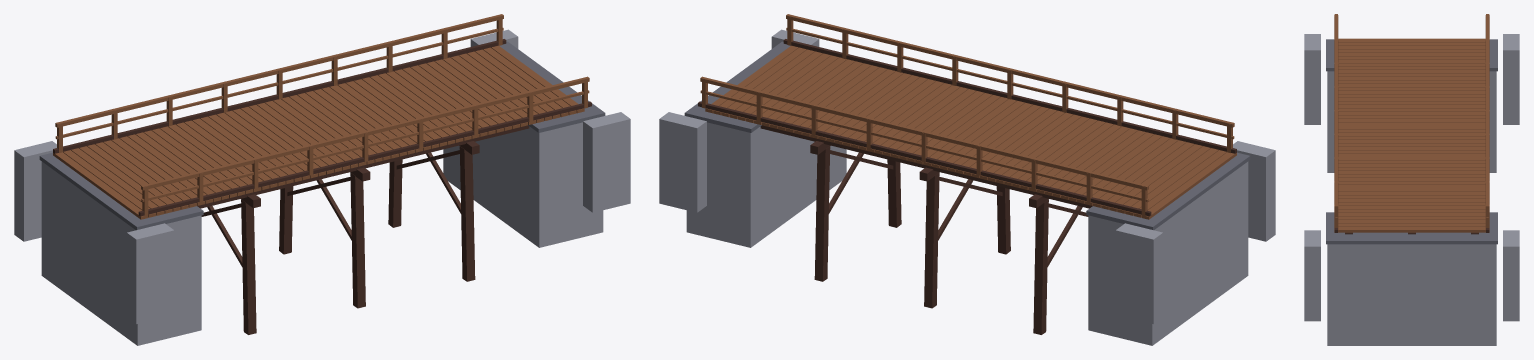
File: bridge.glb
The picture shows the model from 3 angles, left to right: view 1: azimuth 30°, elevation 25°; view 2: azimuth 150°, elevation 25°; view 3: azimuth 270°, elevation 25°; orthographic projection. The views are drawn at different scales.
Parts seen in each view (by area): view 1: abutment; view 2: abutment; view 3: abutment.
Part boxes in pixels (left/top/right/bottom): abutment: left=14, top=14, right=630, bottom=345; abutment: left=659, top=14, right=1275, bottom=345; abutment: left=1304, top=14, right=1519, bottom=345.
Size of the model in its own units: 20.8 by 7.18 by 8.9.
